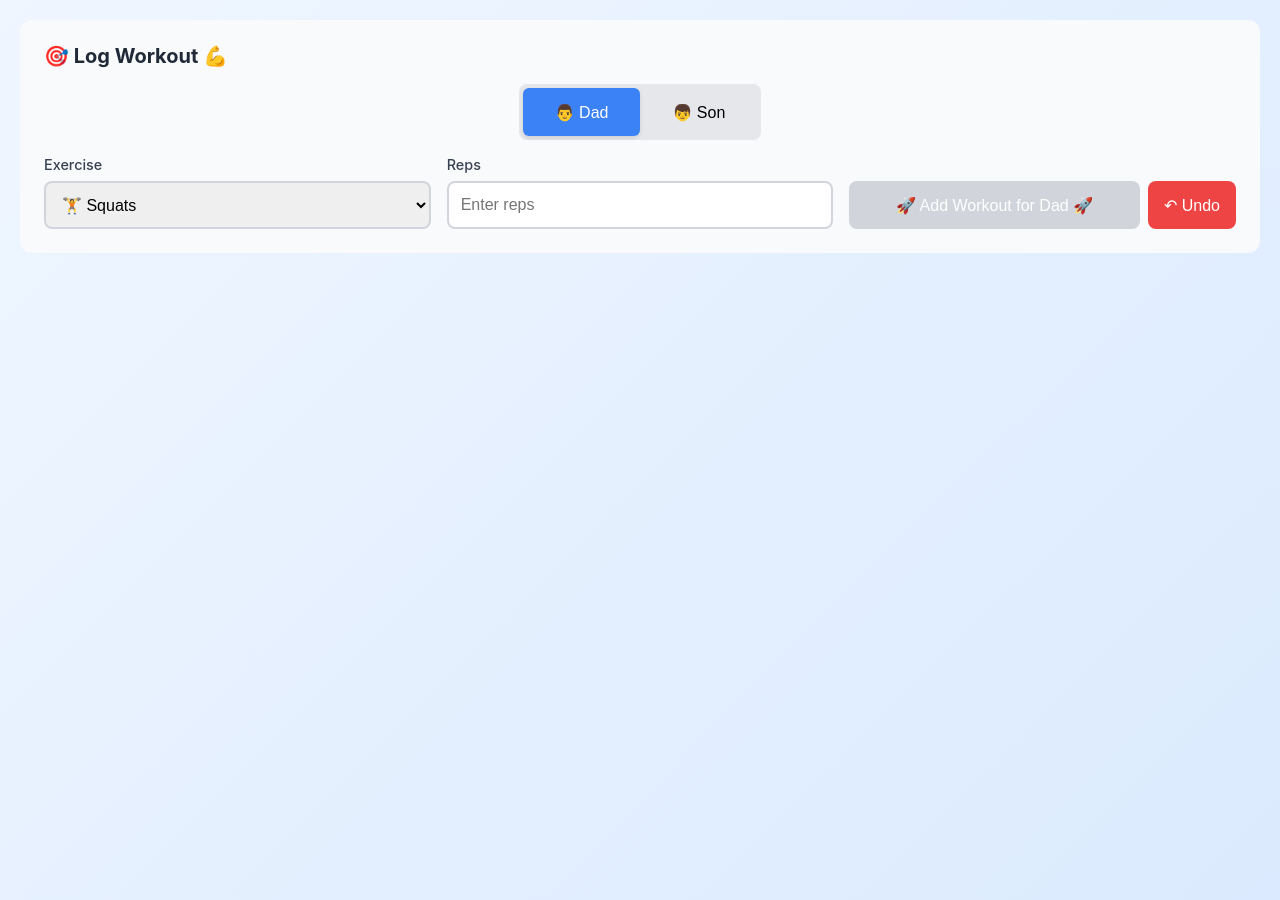
Test case: WorkoutLogger › should show loading state during submission
This screenshot has width=1280, height=900.
Type "10" into the number field labelled "Reps" at (640, 205), box [447,181,833,229]
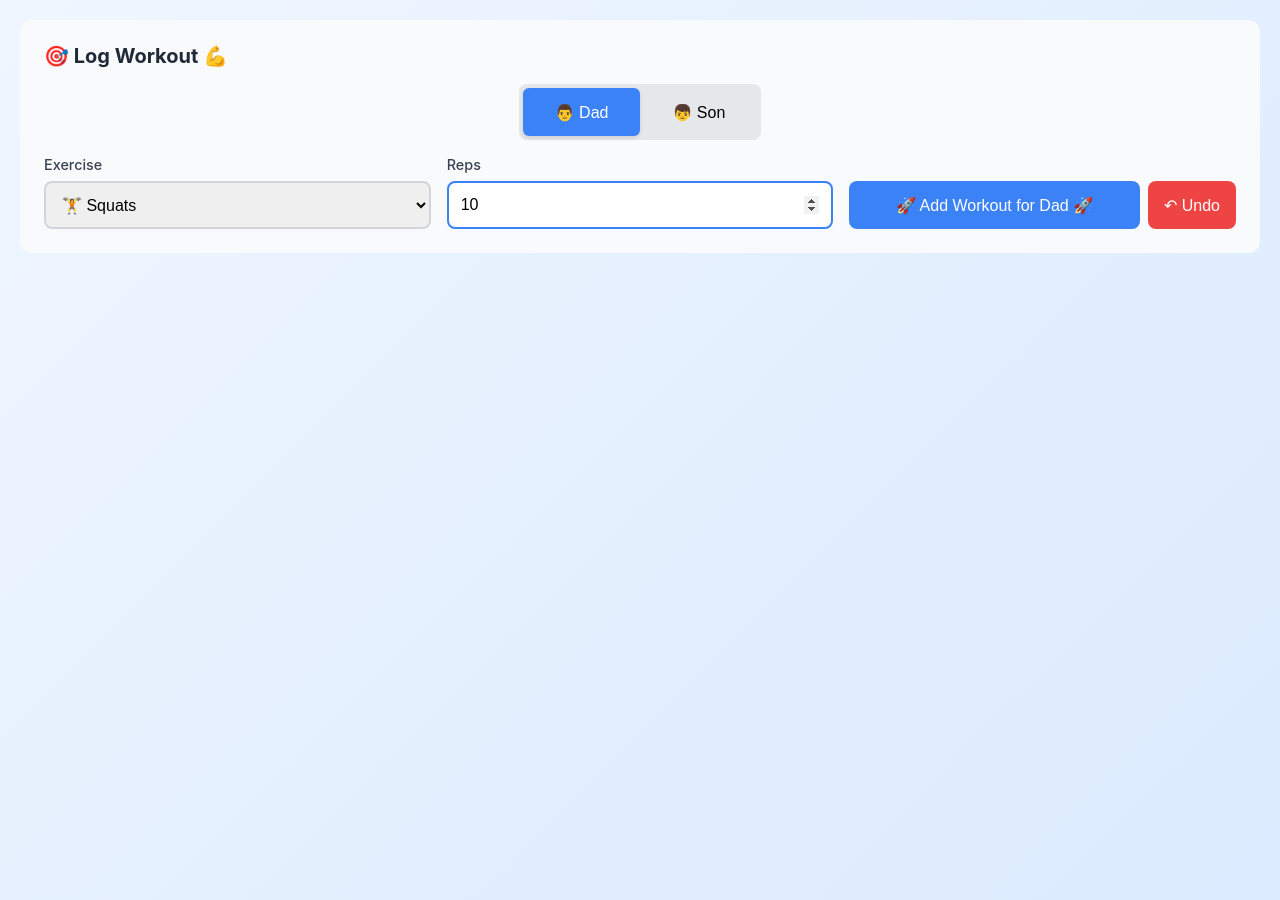
Click the button "🚀 Add Workout for Dad 🚀" at (995, 205), box [849,181,1140,229]
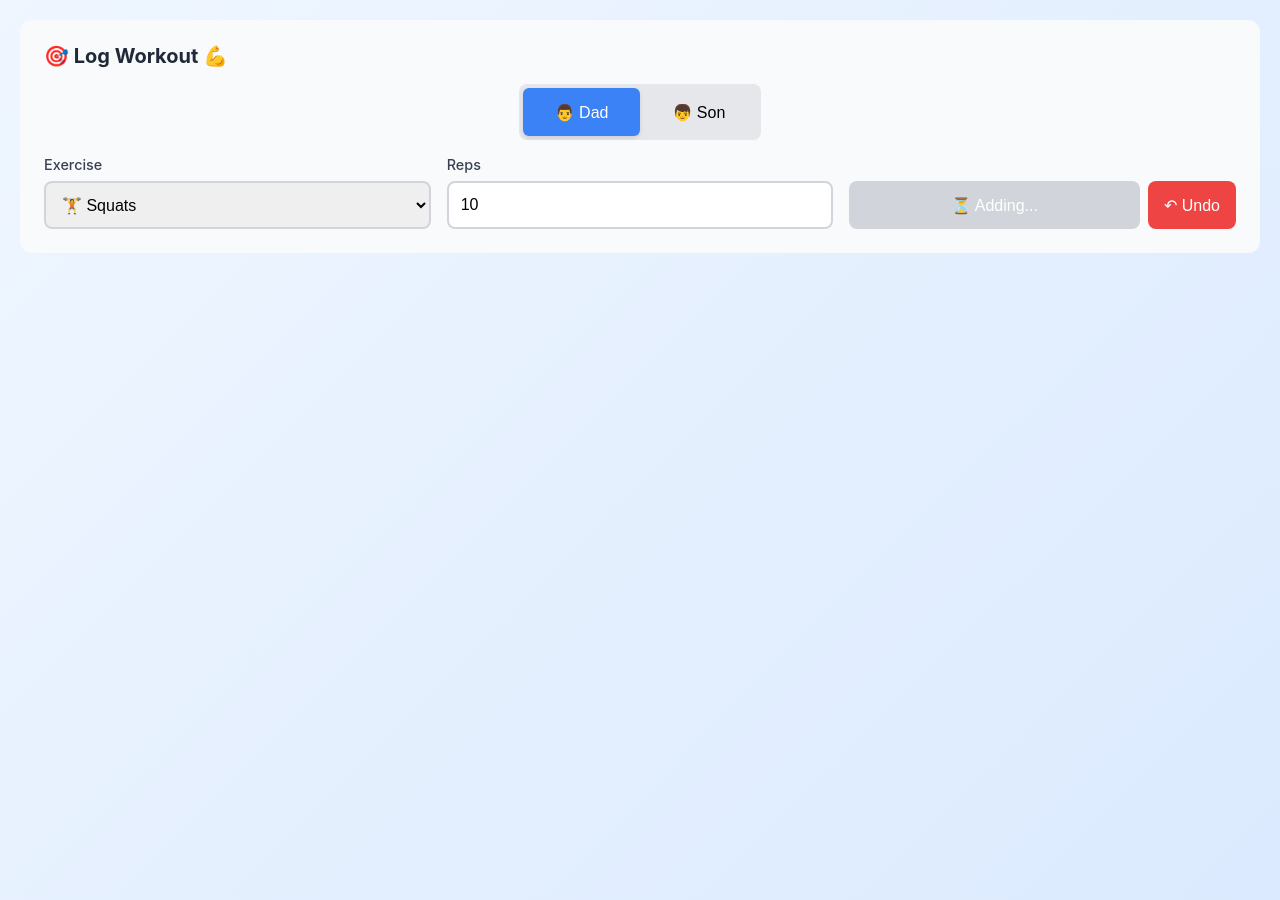
Expected: the button "⏳ Adding..." is disabled, [849,181,1140,229]
